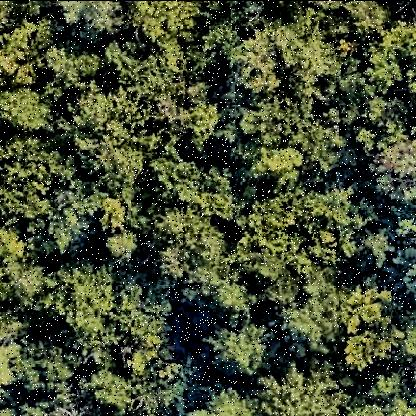tree-top: (278, 261, 387, 369), (256, 184, 372, 269), (66, 88, 152, 193), (237, 18, 333, 110), (151, 206, 229, 293), (38, 262, 116, 340), (340, 278, 403, 372), (1, 135, 61, 230), (107, 286, 171, 366), (144, 73, 216, 142), (257, 364, 346, 416), (15, 331, 79, 399), (125, 1, 204, 56), (205, 322, 277, 380), (366, 12, 416, 94), (41, 179, 99, 249), (370, 131, 416, 213), (1, 15, 46, 95), (1, 80, 57, 138), (247, 142, 311, 192), (240, 96, 316, 138), (99, 40, 167, 86), (52, 1, 120, 42), (83, 368, 141, 416), (1, 299, 31, 387), (44, 46, 106, 88), (206, 279, 255, 325), (198, 383, 264, 416), (357, 372, 409, 411), (341, 1, 390, 37), (363, 96, 415, 129), (1, 325, 23, 401), (395, 226, 416, 303), (395, 305, 416, 381), (340, 395, 413, 416), (3, 397, 83, 416), (366, 365, 404, 401), (94, 196, 130, 234), (103, 232, 143, 262)
